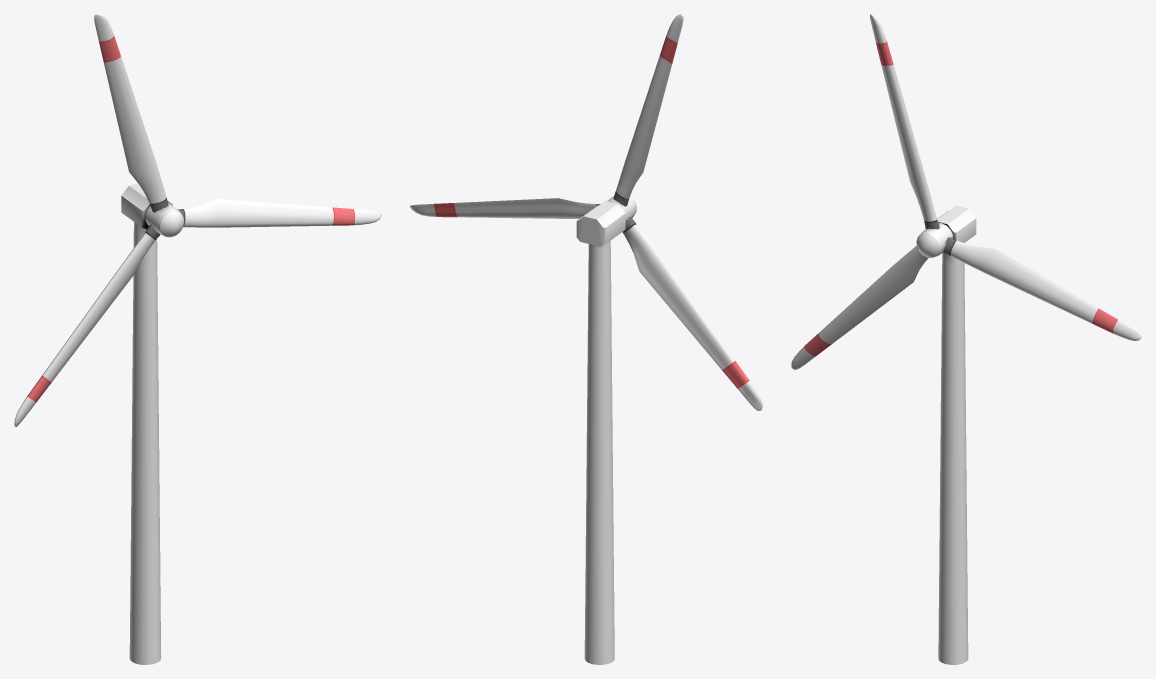
The model's file is wiatrak.glb.
3 renders of one model, left to right at view 1: azimuth 30°, elevation 25°; view 2: azimuth 150°, elevation 25°; view 3: azimuth 330°, elevation 25°, orthographic. The views are drawn at different scales.
Parts seen in each view (by area): view 1: Windturbine Blades_1, Windturbine Support_0; view 2: Windturbine Support_0, Windturbine Blades_1; view 3: Windturbine Support_0, Windturbine Blades_1.
Boxes of the visible parts, x1,y1,x2,y2 form: Windturbine Blades_1: (14, 14, 381, 427); Windturbine Support_0: (121, 183, 172, 664); Windturbine Support_0: (576, 200, 625, 664); Windturbine Blades_1: (410, 14, 762, 410); Windturbine Support_0: (937, 205, 976, 664); Windturbine Blades_1: (791, 14, 1141, 369).
Bounding box in the file's own units: 11.17 × 19.59 × 2.13.
Materials: 1 (1 with a texture image).
